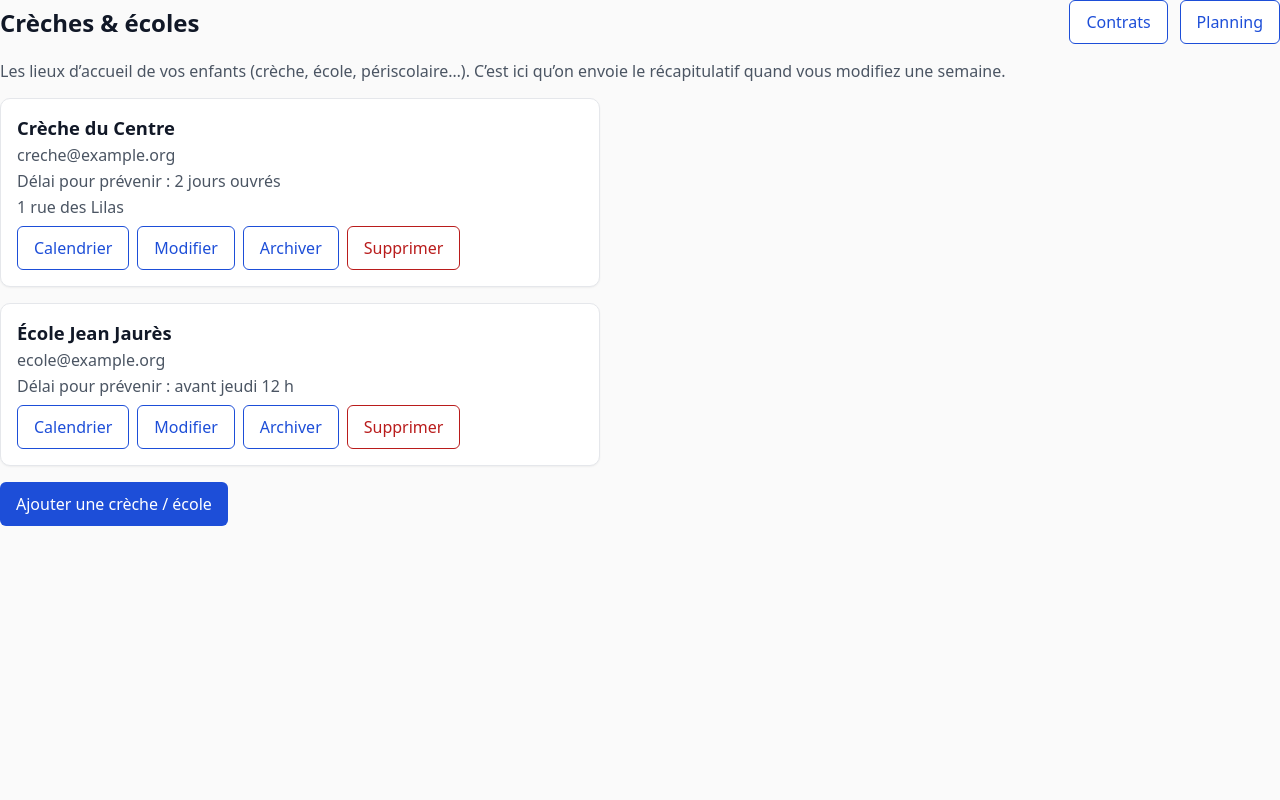
EtablissementsPage (per-foyer) › affiche un message explicite si la suppression est bloquée (409)
Check: the heading "Crèche du Centre" is shown, box [17,115,175,140]
Step 1. Click the button with aria-label "Supprimer Crèche du Centre" → {"x": 404, "y": 248}, box [347,226,460,270]
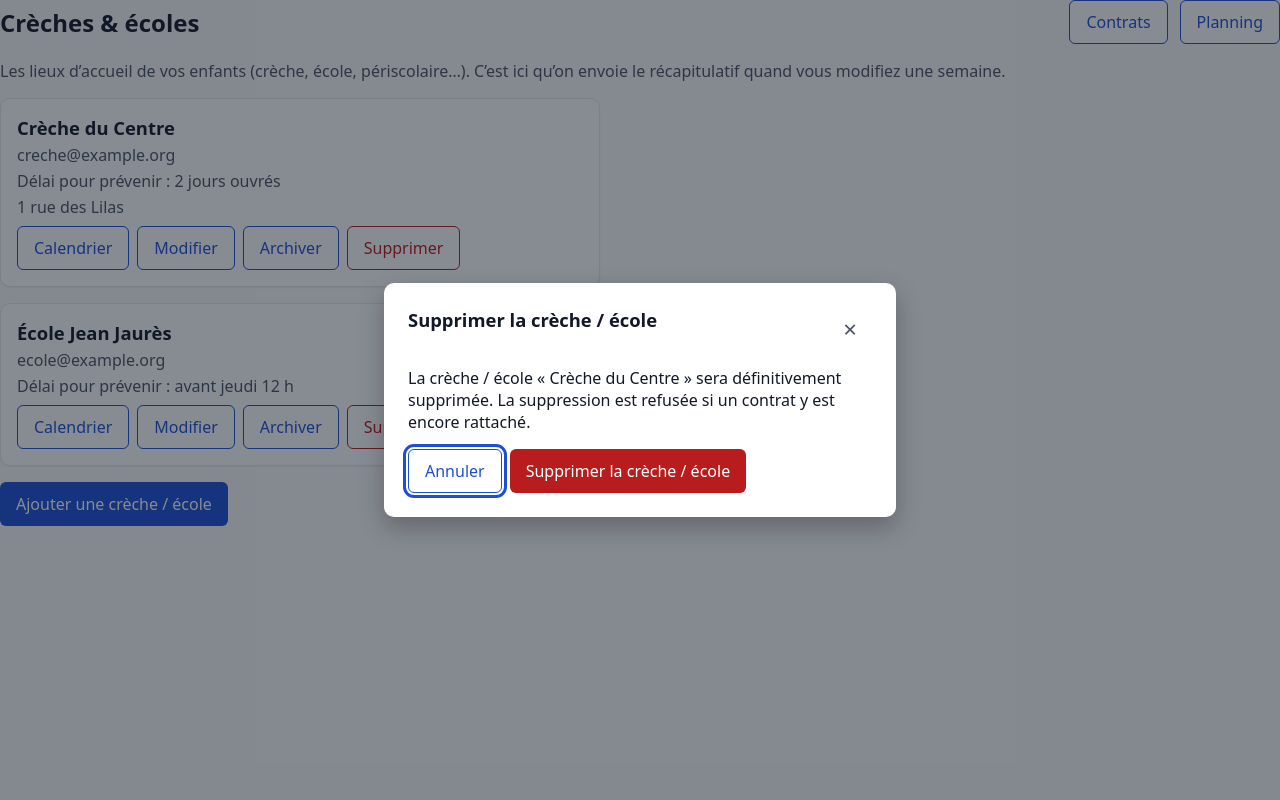
Confirme dans la modale.
Step 2. Click the button "Supprimer la crèche / école" → {"x": 628, "y": 471}, box [510,449,746,493]
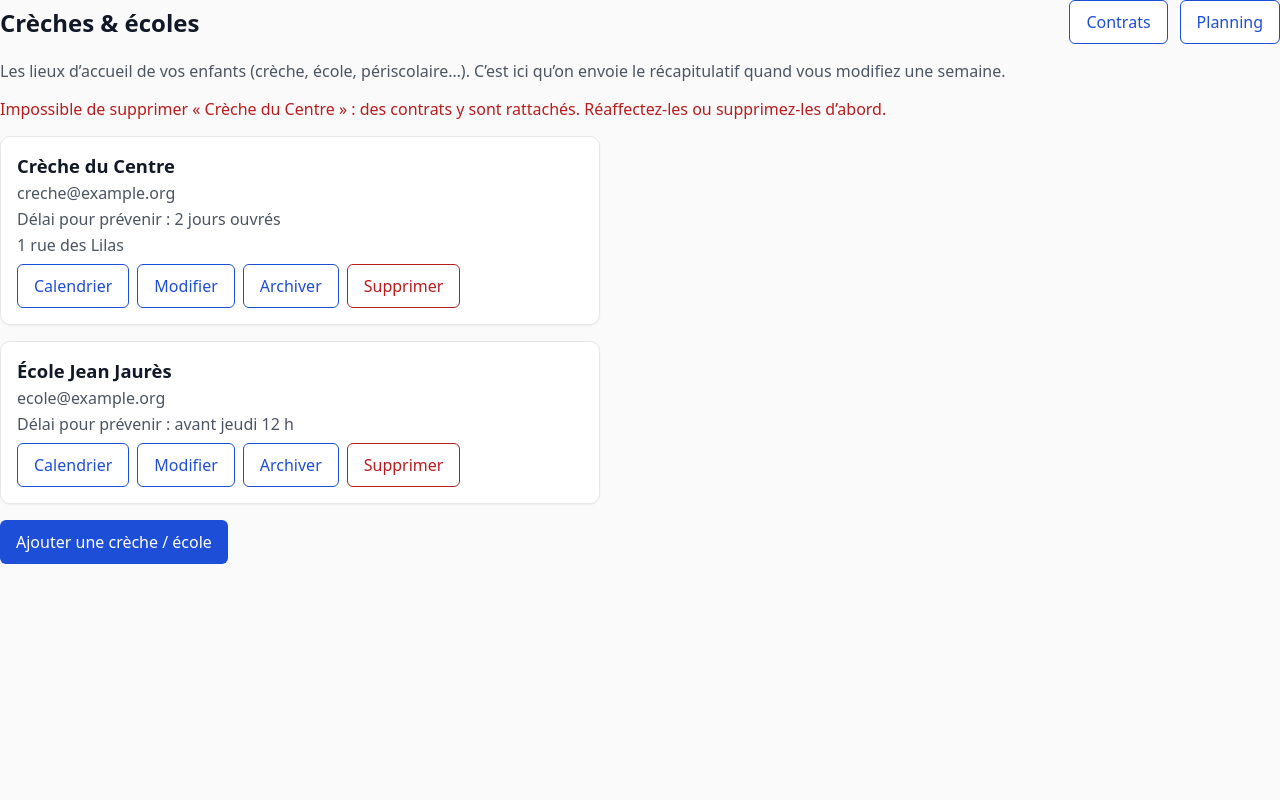
Check: the text "des contrats y sont rattachés" is shown, box [0,98,886,120]
